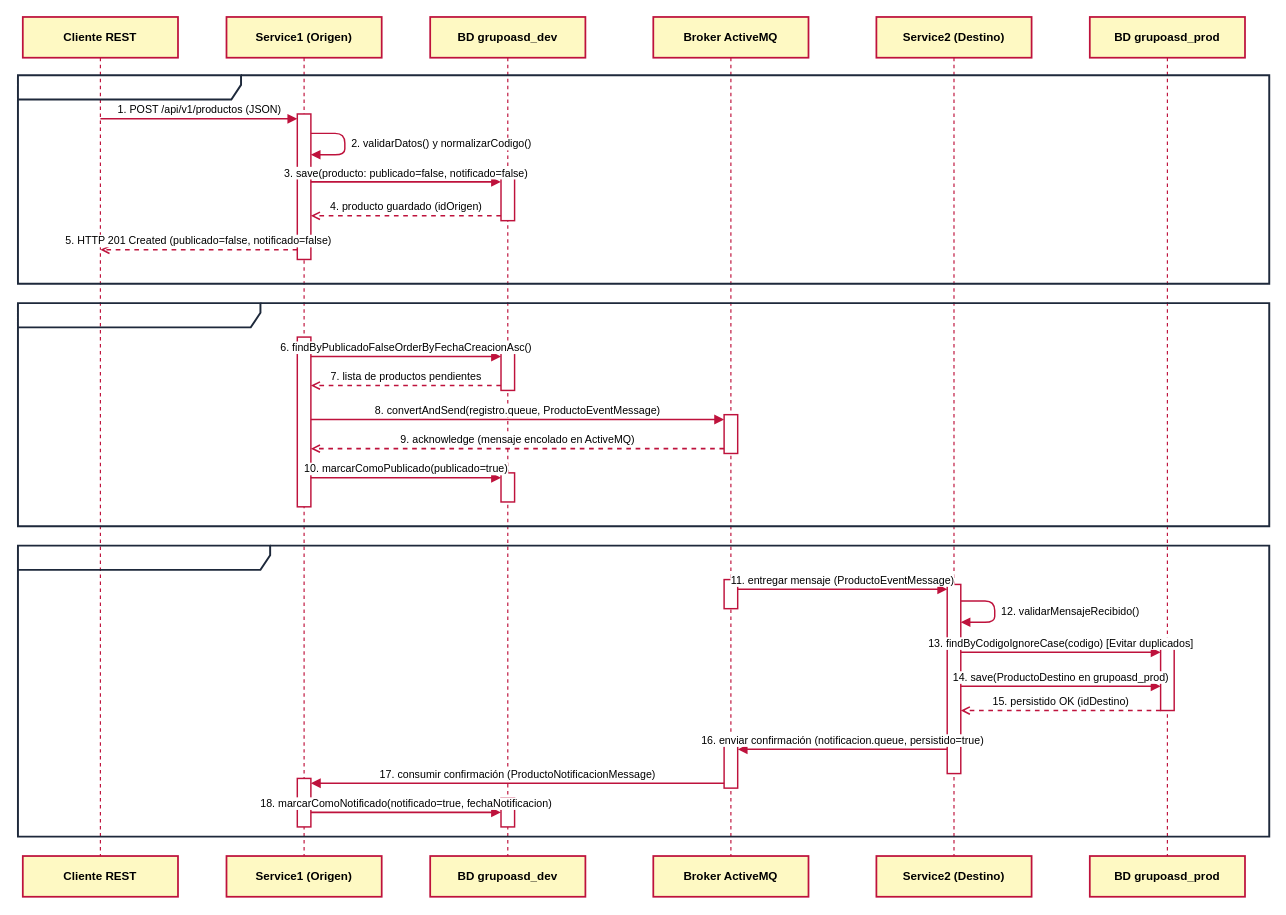
Image size: 1286x915. Some labels were removed from this diagram. The box of each missing label's shape, as (x1, y1, x2, y2) in pixels:
1. Registrar Producto (API REST): (16, 74, 1270, 284)
2. Publicar Pendientes (Job @Scheduled): (16, 302, 1270, 527)
3. Consumir, Persistir y Confirmar (JMS): (16, 544, 1270, 837)
